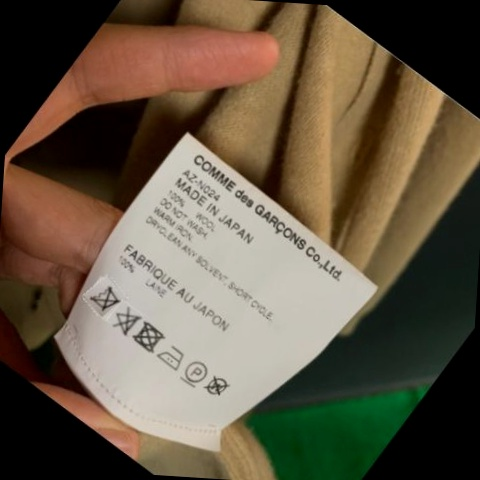DN_bleach: (113, 304, 142, 337)
DN_tumble_dry: (135, 323, 167, 353)
DN_wash: (90, 281, 121, 315)
DN_wet_clean: (205, 373, 232, 399)
dry_clean_any_solvent_except_trichloroethylene: (182, 357, 211, 389)
iron_medium: (154, 342, 188, 374)
